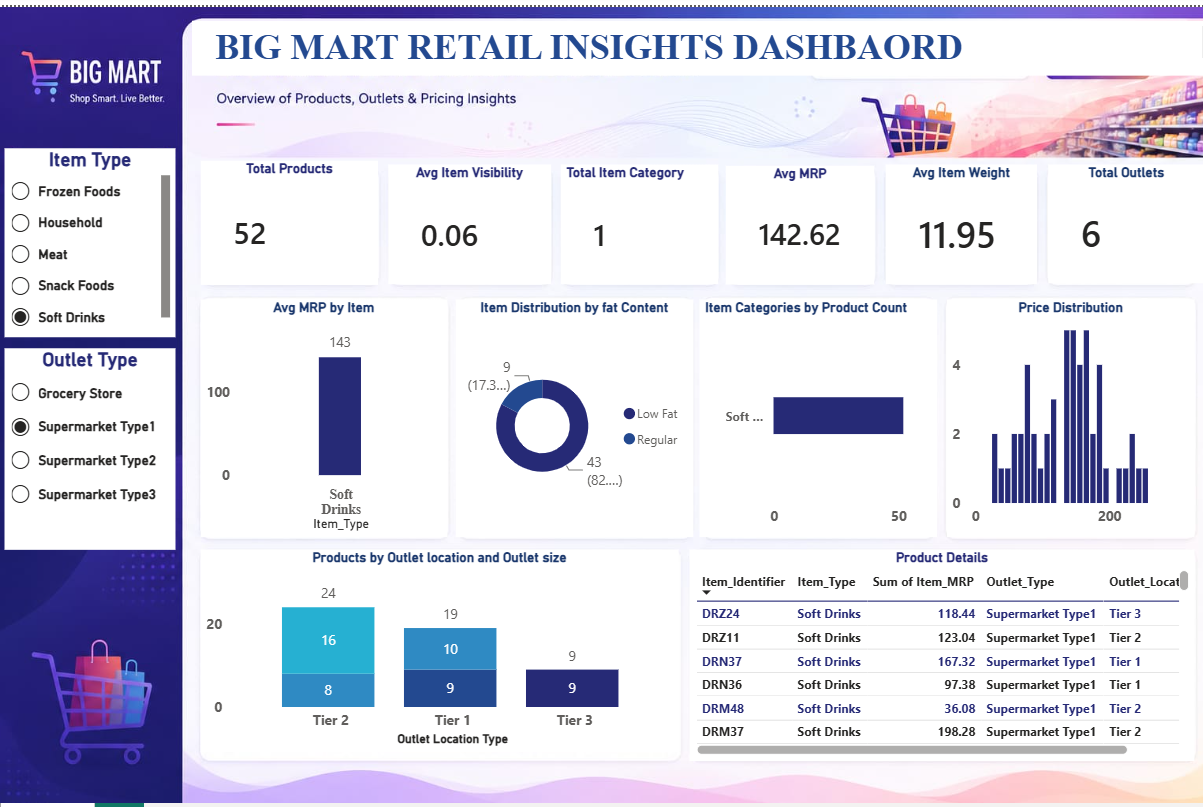

The dashboard page shown, as its layout file describes it:
{"tool":"powerbi","page":{"name":"Page 1","canvas":[1280,720],"ordinal":0},"visuals":[{"type":"image","box":[88.9,0,1152.2,717.8],"z":0},{"type":"cardVisual","title":"Total Products","fields":{"Data":["Count(Big_Mart_Sales_sysslan_dataset.Item_Identifier)"]},"box":[305.6,136.7,157.8,110],"z":1000},{"type":"cardVisual","title":"Total Outlets","fields":{"Data":["Count(Big_Mart_Sales_sysslan_dataset.Outlet_Identifier)"]},"box":[1058.9,140,138.9,105.6],"z":2000},{"type":"cardVisual","title":"Avg MRP","fields":{"Data":["Avg(Big_Mart_Sales_sysslan_dataset.Item_MRP)"]},"box":[772.2,141.1,134.4,105.6],"z":3000},{"type":"cardVisual","title":"Avg Item Visibility","fields":{"Data":["Avg(Big_Mart_Sales_sysslan_dataset.Item_Visibility)"]},"box":[472.2,140,144.4,106.7],"z":4000},{"type":"cardVisual","title":"Avg Item Weight","fields":{"Data":["Avg(Big_Mart_Sales_sysslan_dataset.Item_Weight)"]},"box":[914.4,140,134.4,106.7],"z":5000},{"type":"cardVisual","title":"Total Item Category","fields":{"Data":["Count(Big_Mart_Sales_sysslan_dataset.Item_Type)"]},"box":[625.6,140,140,106.7],"z":6000},{"type":"clusteredBarChart","title":"Item Categories by Product Count","fields":{"Category":["Big_Mart_Sales_sysslan_dataset.Item_Type"],"Y":["CountNonNull(Big_Mart_Sales_sysslan_dataset.Item_Identifier)"]},"box":[748.9,260,211.1,211.1],"z":7000},{"type":"clusteredColumnChart","title":"Avg MRP by Item","fields":{"Category":["Big_Mart_Sales_sysslan_dataset.Item_Type"],"Y":["Avg(Big_Mart_Sales_sysslan_dataset.Item_MRP)"]},"box":[305.6,260,218.9,211.1],"z":8000},{"type":"donutChart","title":"Item Distribution by fat Content","fields":{"Category":["Big_Mart_Sales_sysslan_dataset.Item_Fat_Content"],"Y":["CountNonNull(Big_Mart_Sales_sysslan_dataset.Item_Identifier)"]},"box":[532.2,260,211.1,211.1],"z":9000},{"type":"columnChart","title":"Products by Outlet location and Outlet size","fields":{"Category":["Big_Mart_Sales_sysslan_dataset.Outlet_Location_Type"],"Series":["Big_Mart_Sales_sysslan_dataset.Outlet_Size"],"Y":["CountNonNull(Big_Mart_Sales_sysslan_dataset.Item_Identifier)"]},"box":[305.6,482.2,424.4,180],"z":10000},{"type":"clusteredColumnChart","title":"Price Distribution","fields":{"Category":["Big_Mart_Sales_sysslan_dataset.Item_MRP (bins)"],"Y":["CountNonNull(Big_Mart_Sales_sysslan_dataset.Item_Identifier)"]},"box":[968.9,260,220,211.1],"z":11000},{"type":"tableEx","title":"Product Details","fields":{"Values":["Big_Mart_Sales_sysslan_dataset.Item_Identifier","Big_Mart_Sales_sysslan_dataset.Item_Type","Sum(Big_Mart_Sales_sysslan_dataset.Item_MRP)","Big_Mart_Sales_sysslan_dataset.Outlet_Type","Big_Mart_Sales_sysslan_dataset.Outlet_Location_Type"]},"box":[740,482.2,448.9,187.8],"z":12000},{"type":"textbox","box":[297.8,12.2,911.1,48.9],"z":13000},{"type":"listSlicer","title":"Item Type","fields":{"Values":["Big_Mart_Sales_sysslan_dataset.Item_Type"]},"box":[131.1,125.6,152.2,167.8],"z":14000},{"type":"listSlicer","title":"Outlet Type","fields":{"Values":["Big_Mart_Sales_sysslan_dataset.Outlet_Type"]},"box":[131.1,303.3,152.2,178.9],"z":15000}]}

Visuals, with their boxes on the page's 1280x720 design canvas (x1, y1, x2, y2). These are canvas units, not pixel positions in the 1203x807 screenshot, which may show the page scaled, cropped or inside an application window:
image: <box>89,0,1241,718</box>
"Total Products" cardVisual: <box>306,137,463,247</box>
"Total Outlets" cardVisual: <box>1059,140,1198,246</box>
"Avg MRP" cardVisual: <box>772,141,907,247</box>
"Avg Item Visibility" cardVisual: <box>472,140,617,247</box>
"Avg Item Weight" cardVisual: <box>914,140,1049,247</box>
"Total Item Category" cardVisual: <box>626,140,766,247</box>
"Item Categories by Product Count" clusteredBarChart: <box>749,260,960,471</box>
"Avg MRP by Item" clusteredColumnChart: <box>306,260,524,471</box>
"Item Distribution by fat Content" donutChart: <box>532,260,743,471</box>
"Products by Outlet location and Outlet size" columnChart: <box>306,482,730,662</box>
"Price Distribution" clusteredColumnChart: <box>969,260,1189,471</box>
"Product Details" tableEx: <box>740,482,1189,670</box>
textbox: <box>298,12,1209,61</box>
"Item Type" listSlicer: <box>131,126,283,293</box>
"Outlet Type" listSlicer: <box>131,303,283,482</box>
